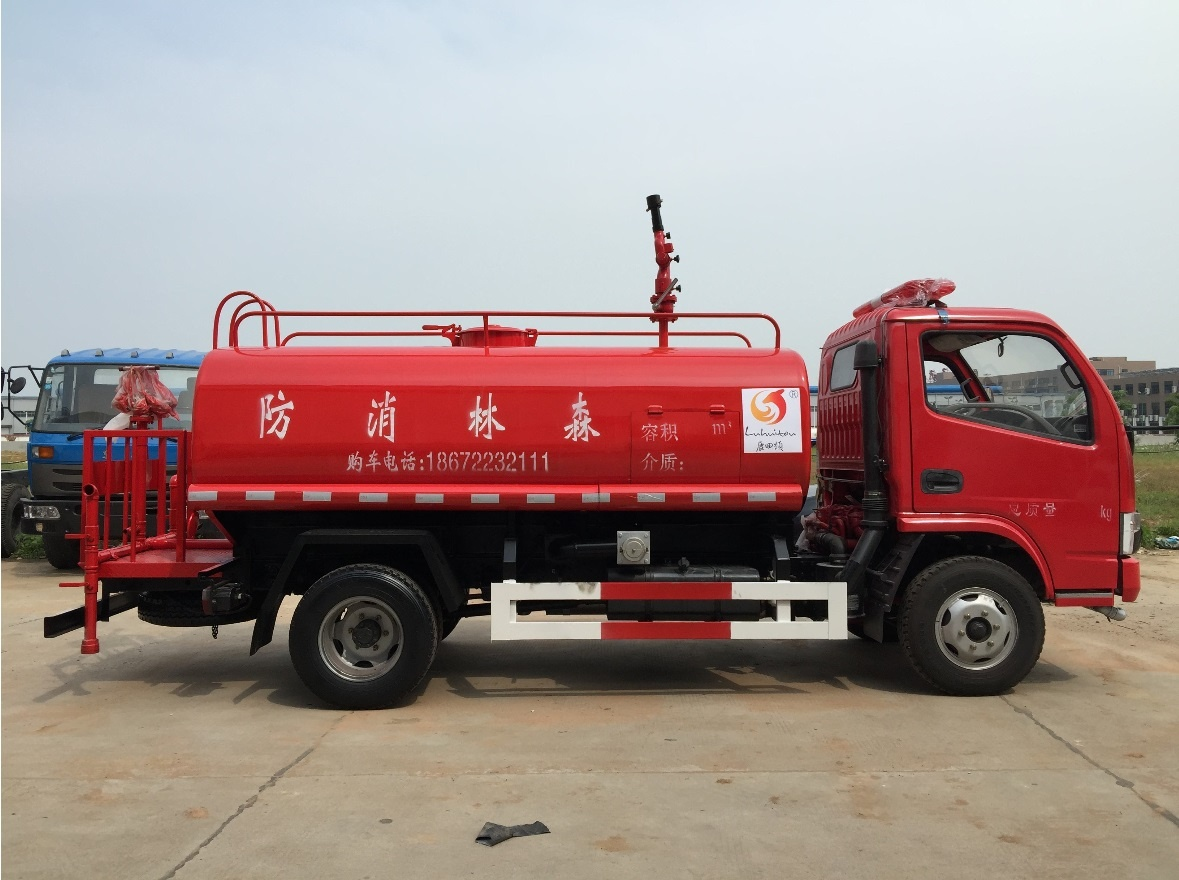fire engine: (94, 245, 1149, 719)
